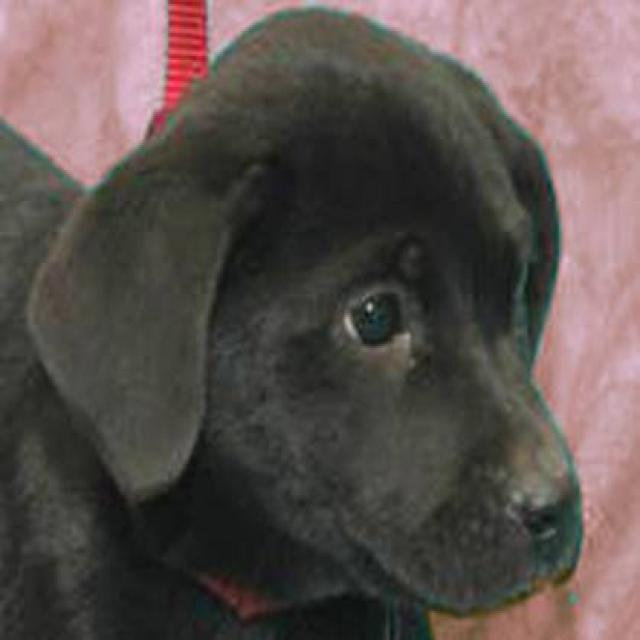dog: (0, 4, 585, 638)
